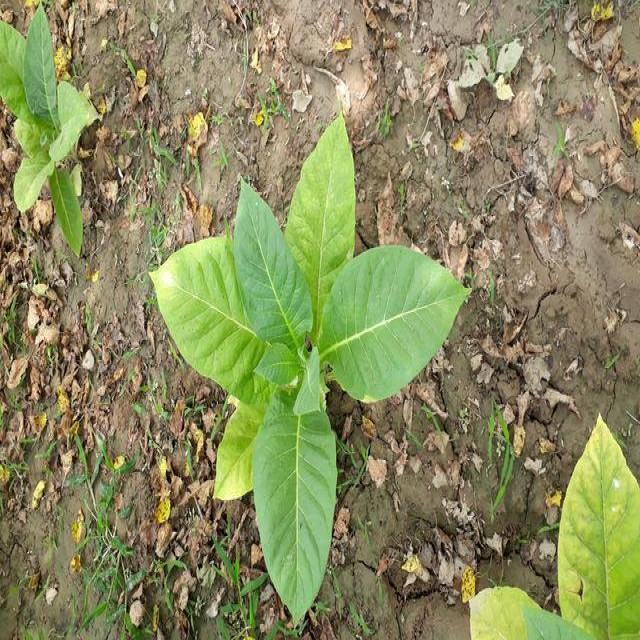crop: (154, 122, 462, 610), (466, 408, 640, 640), (0, 4, 96, 255)
